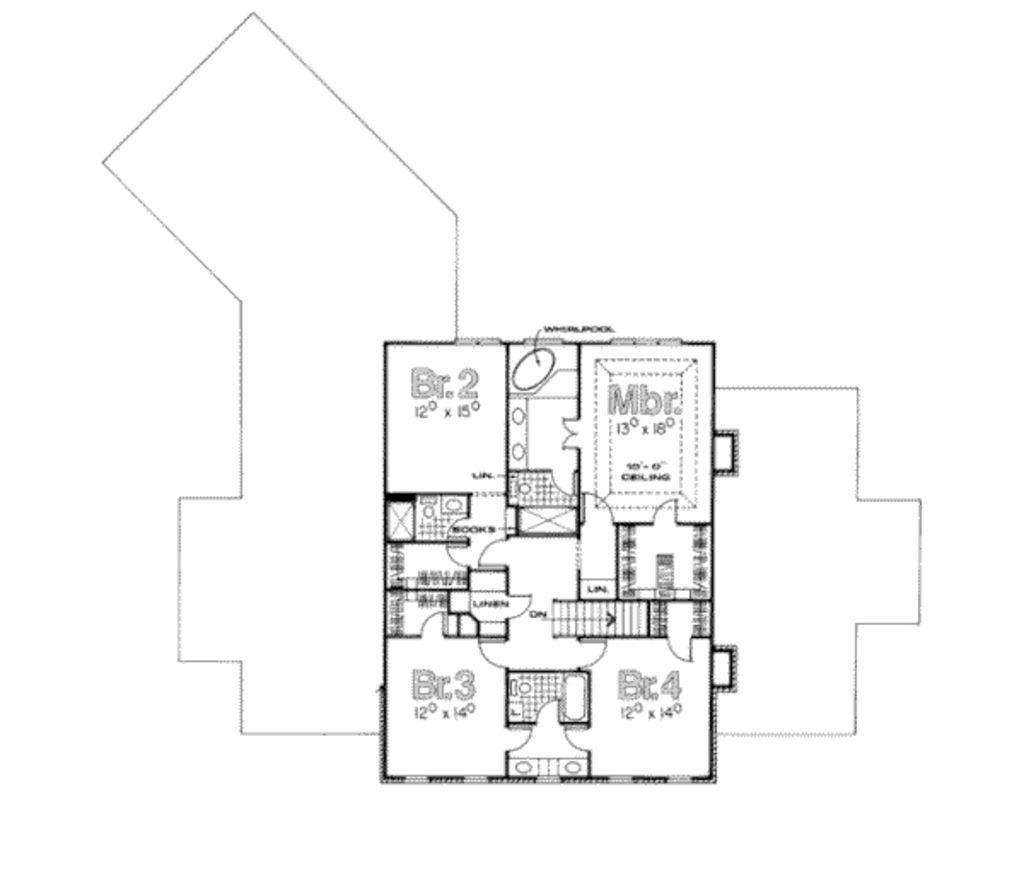door: (580, 488, 614, 529), (474, 537, 510, 571), (499, 725, 535, 757), (415, 608, 447, 643), (554, 414, 581, 454), (477, 637, 508, 671), (653, 497, 684, 530), (577, 638, 610, 669), (666, 633, 697, 664), (561, 726, 591, 757), (443, 544, 470, 571)
small_sink: (503, 398, 533, 469), (508, 757, 593, 778), (441, 496, 469, 515)
stairs: (546, 601, 651, 643)
tub: (506, 346, 556, 400), (561, 671, 588, 729)
window: (603, 332, 687, 352), (452, 334, 502, 356)
